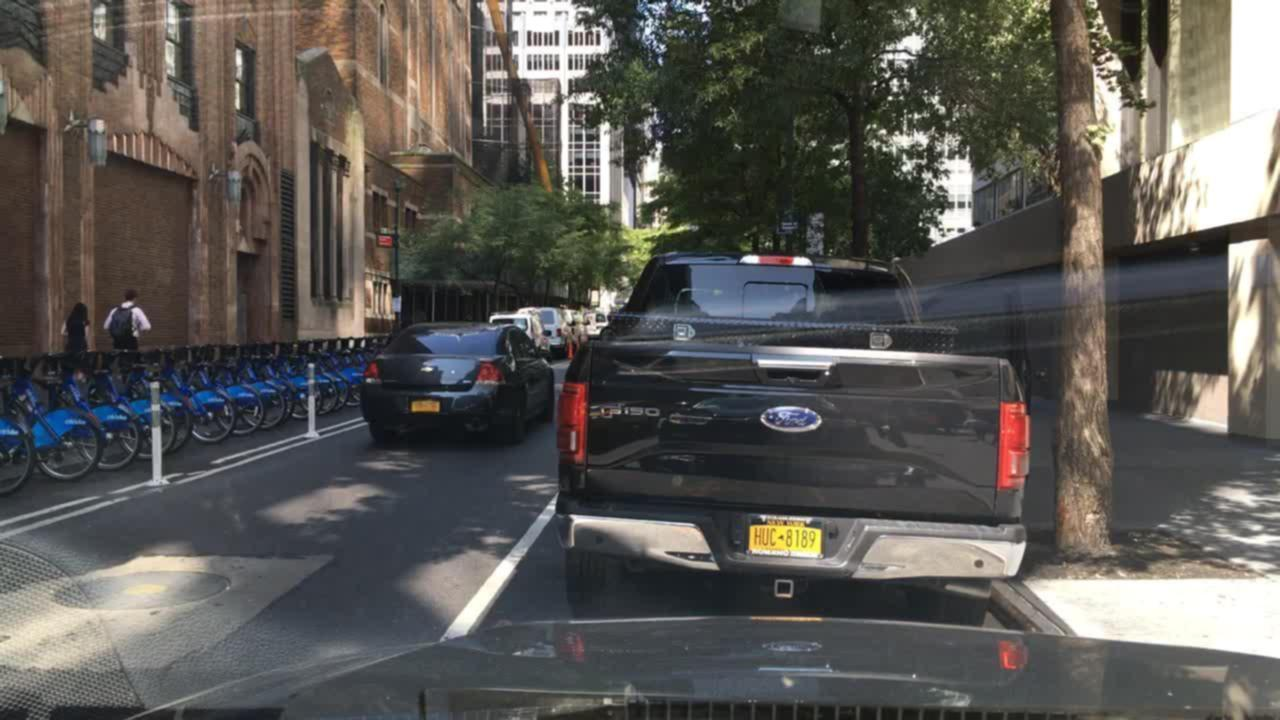chevrolet: (418, 364, 439, 376)
ford: (759, 401, 824, 436)
